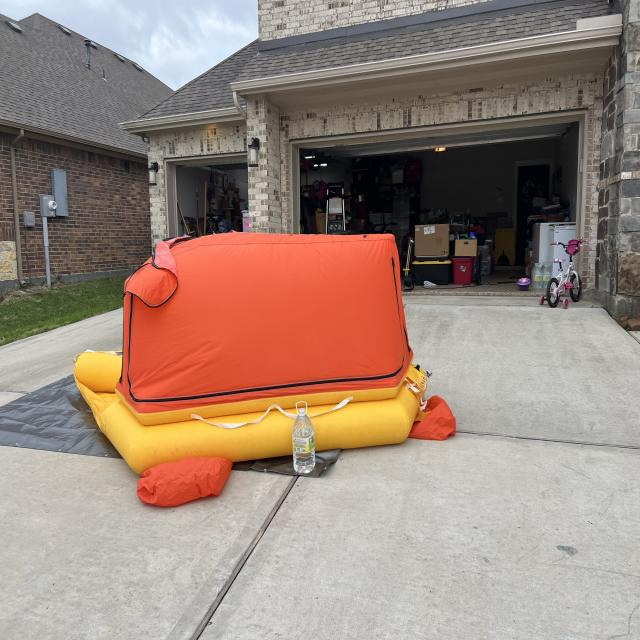Multi-person_life_raft: (74, 235, 457, 508)
